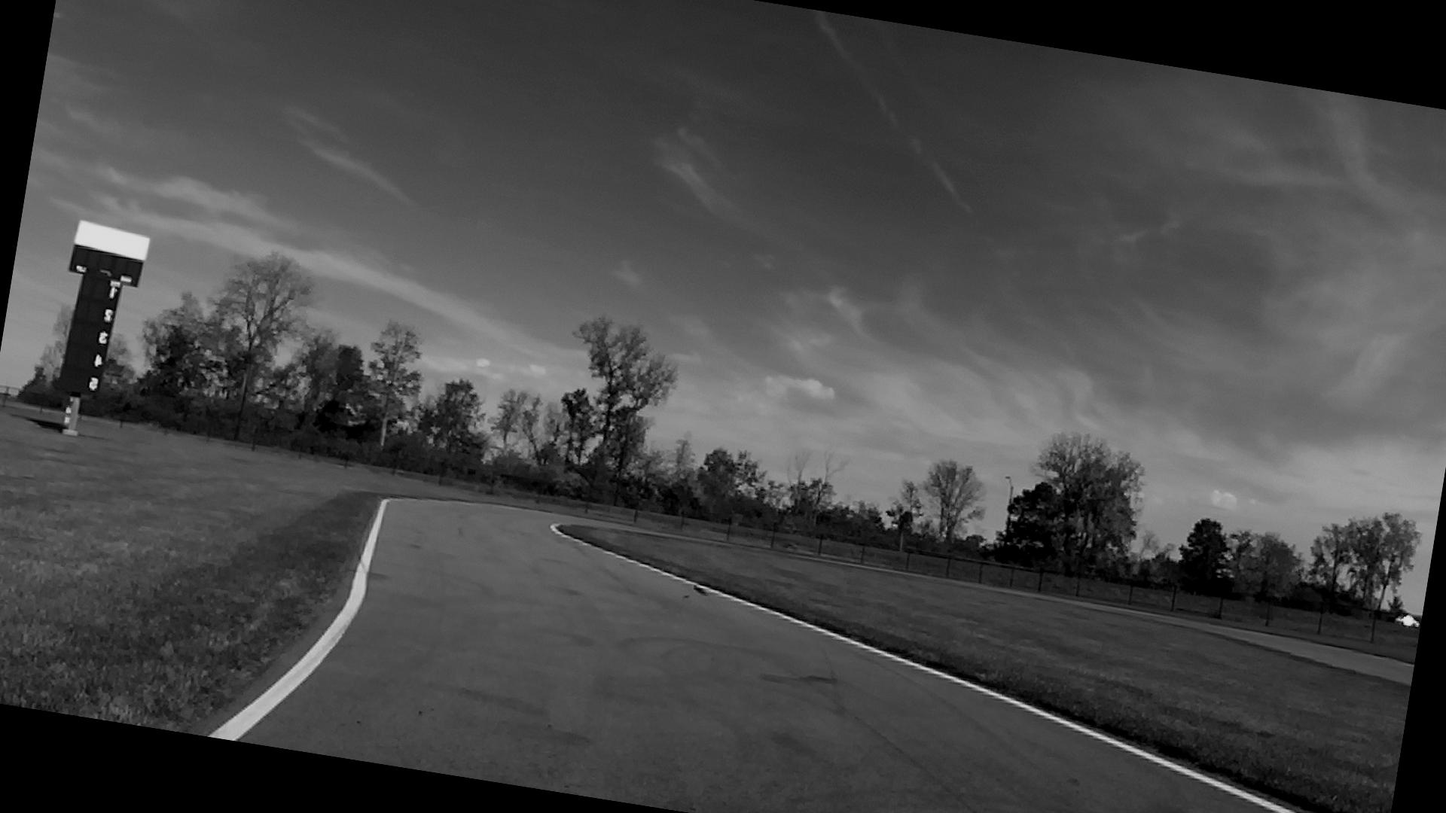white-line: (598, 547, 1307, 813), (205, 498, 391, 741)
